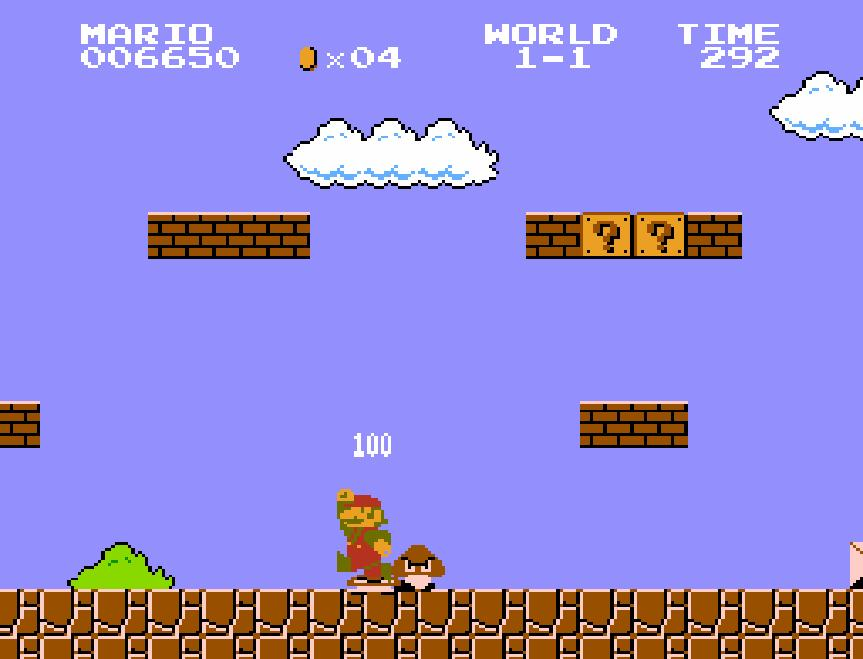big_mario: (335, 487, 393, 586)
